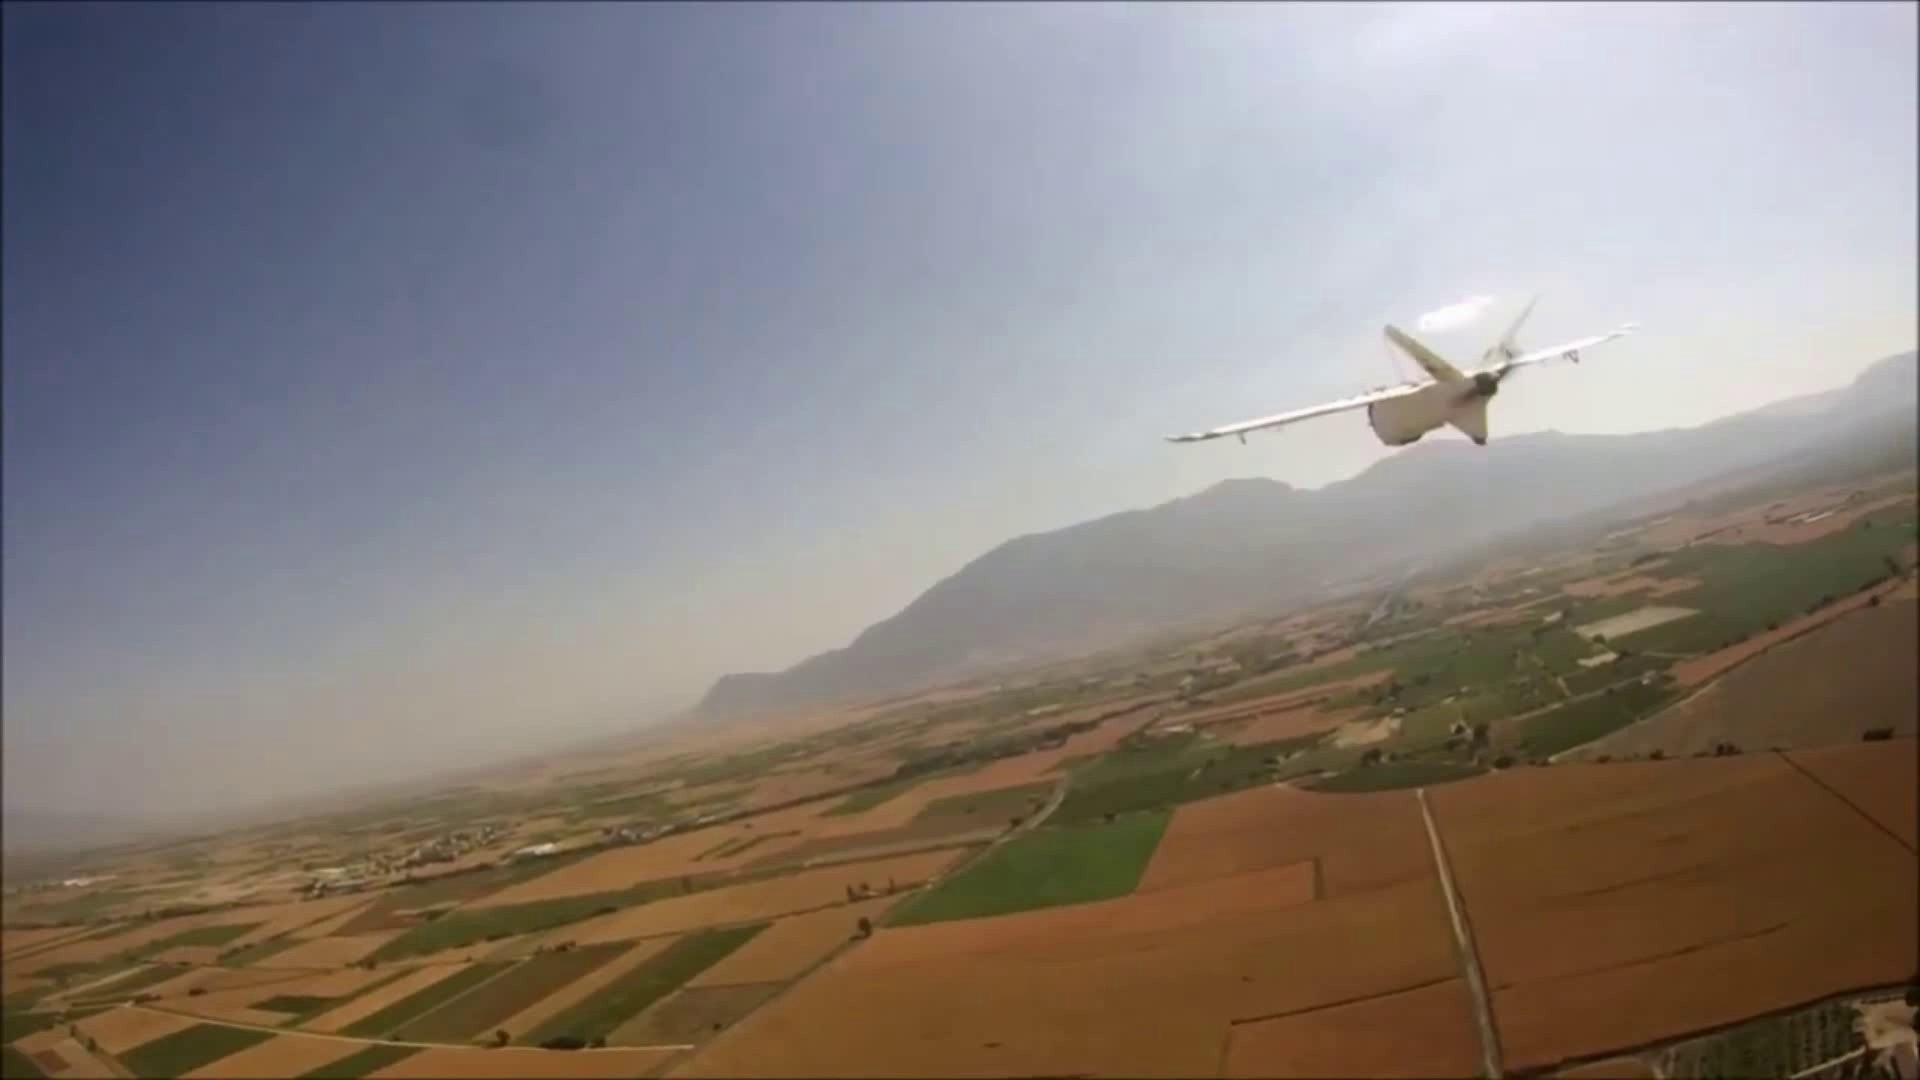airplane: (1163, 293, 1633, 480)
